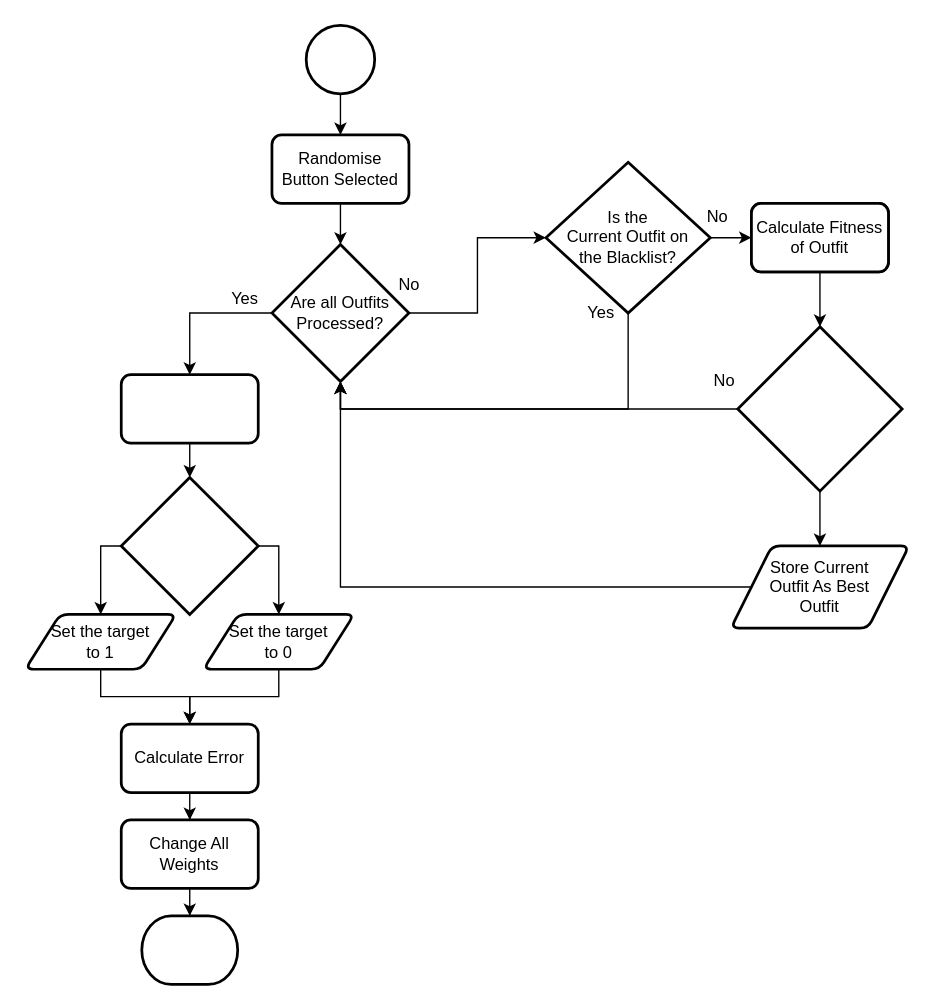
This 933x1008 diagram has some shape labels left out. Here are the shapes that lost their labels. From the top down, the centre of each, then its label:
At (339,59): "Start".
At (189,408): "Show the best Outfit".
At (819,408): "Is Current Fitness the Highest Fitness?".
At (189,545): "Does the user like the outfit".
At (189,949): "End".
